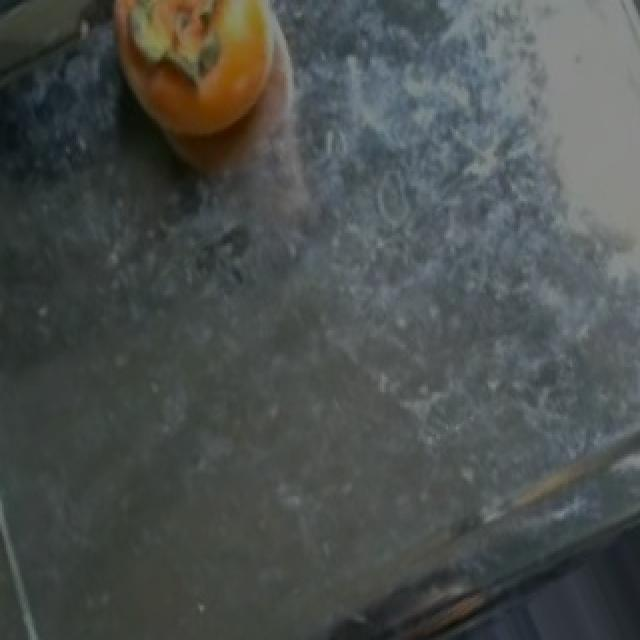Fruit: (82, 0, 312, 161)
